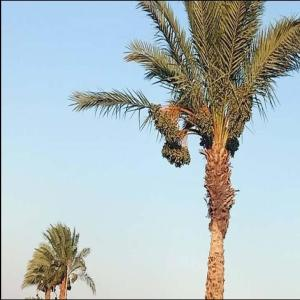palm tree: (67, 0, 300, 299), (42, 220, 96, 298)
